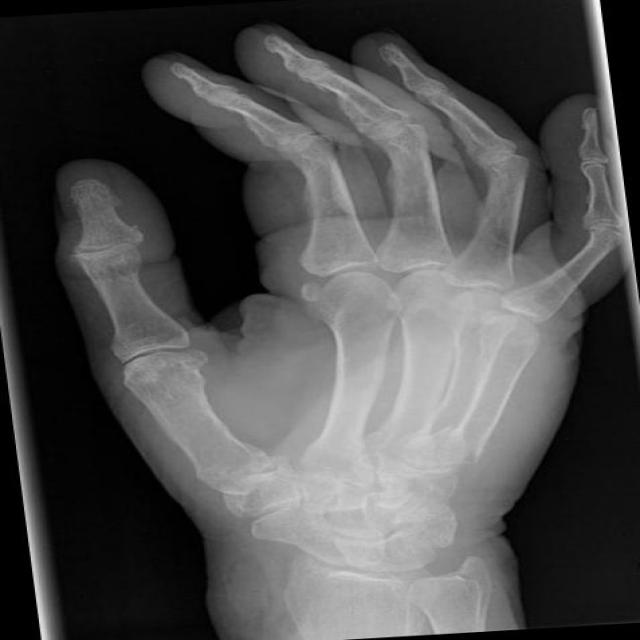Oblique Displaced: (433, 414, 501, 479)
